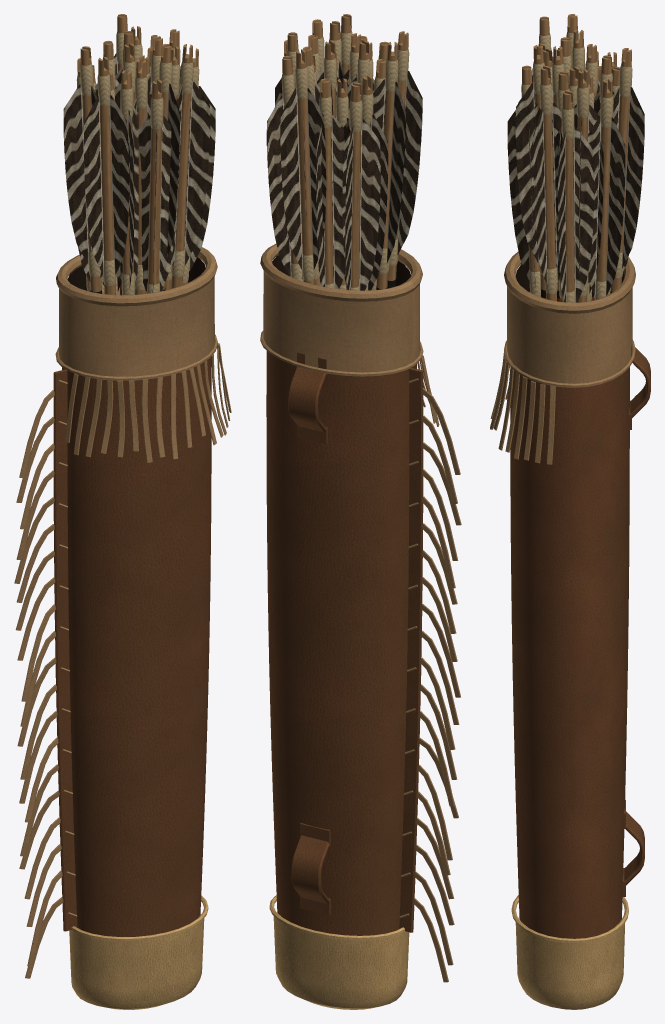
Rendered from quiver.glb.
3 renders of one model, left to right at view 1: azimuth 30°, elevation 25°; view 2: azimuth 150°, elevation 25°; view 3: azimuth 270°, elevation 25°, orthographic.
Parts seen in each view (by area): view 1: Quiver, Arrow_23, Arrow_17, Arrow_20, Arrow_18, Arrow_15, Arrow_12, Arrow_07, Arrow_22, Arrow_09, Arrow_02, Arrow_24 (+1 smaller); view 2: Quiver, Arrow_24, Arrow_21, Arrow_16, Arrow_18, Arrow_23, Arrow_19, Arrow_13, Arrow_03, Arrow_08, Arrow_11, Arrow_05 (+4 smaller); view 3: Quiver, Arrow_22, Arrow_19, Arrow_17, Arrow_24, Arrow_12, Arrow_20, Arrow_14, Arrow_06, Arrow_04, Arrow_11, Arrow_03 (+2 smaller).
Boxes of the visible parts, left/top/right/bottom form: Quiver: left=14, top=247, right=231, bottom=1009; Arrow_23: left=83, top=56, right=129, bottom=294; Arrow_17: left=171, top=44, right=210, bottom=288; Arrow_20: left=138, top=80, right=177, bottom=293; Arrow_18: left=63, top=46, right=102, bottom=293; Arrow_15: left=116, top=70, right=138, bottom=295; Arrow_12: left=147, top=44, right=179, bottom=290; Arrow_07: left=133, top=59, right=150, bottom=294; Arrow_22: left=182, top=48, right=215, bottom=284; Arrow_09: left=165, top=46, right=191, bottom=290; Arrow_02: left=114, top=43, right=135, bottom=106; Arrow_24: left=114, top=14, right=127, bottom=295; Quiver: left=260, top=244, right=461, bottom=1009; Arrow_24: left=280, top=49, right=326, bottom=284; Arrow_21: left=343, top=82, right=380, bottom=290; Arrow_16: left=316, top=78, right=345, bottom=288; Arrow_18: left=373, top=42, right=405, bottom=289; Arrow_23: left=387, top=31, right=422, bottom=288; Arrow_19: left=266, top=56, right=303, bottom=281; Arrow_13: left=342, top=75, right=388, bottom=290; Arrow_03: left=314, top=40, right=343, bottom=225; Arrow_08: left=331, top=78, right=360, bottom=289; Arrow_11: left=303, top=46, right=320, bottom=285; Arrow_05: left=347, top=40, right=374, bottom=127; Quiver: left=490, top=251, right=650, bottom=1009; Arrow_22: left=553, top=90, right=593, bottom=302; Arrow_19: left=588, top=78, right=625, bottom=299; Arrow_17: left=533, top=66, right=573, bottom=301; Arrow_24: left=610, top=48, right=644, bottom=293; Arrow_12: left=515, top=45, right=553, bottom=298; Arrow_20: left=507, top=65, right=540, bottom=297; Arrow_14: left=573, top=69, right=599, bottom=302; Arrow_06: left=574, top=75, right=603, bottom=301; Arrow_04: left=533, top=46, right=564, bottom=301; Arrow_11: left=594, top=55, right=619, bottom=299; Arrow_03: left=585, top=44, right=599, bottom=300.
Size of the model in its own units: 0.1652 by 0.7544 by 0.1155.
Materials: 5 (5 with a texture image).
